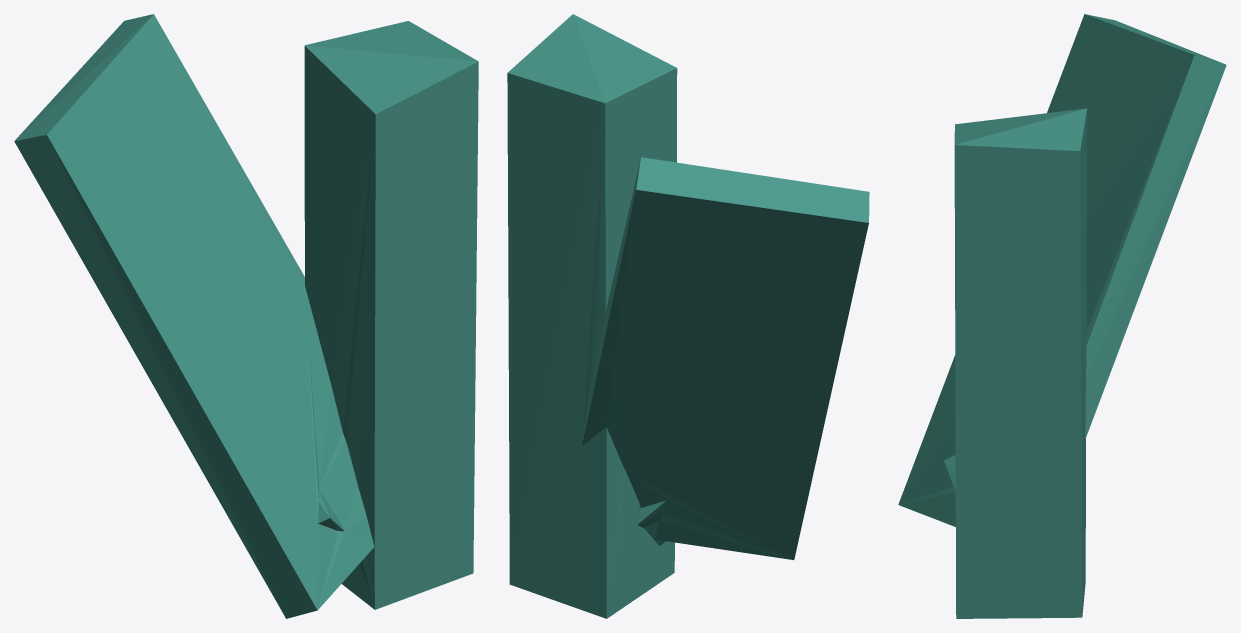
The picture shows the model from 3 angles, left to right: view 1: azimuth 30°, elevation 25°; view 2: azimuth 150°, elevation 25°; view 3: azimuth 270°, elevation 25°; orthographic projection. The views are drawn at different scales.
Parts seen in each view (by area): view 1: 675_Cube.2711; view 2: 675_Cube.2711; view 3: 675_Cube.2711.
Boxes of the visible parts, <box> form: 675_Cube.2711: <box>14,14,478,618</box>; 675_Cube.2711: <box>507,14,869,618</box>; 675_Cube.2711: <box>898,14,1226,618</box>.
Bounding box in the file's own units: 9.26 × 12.3 × 7.48.
